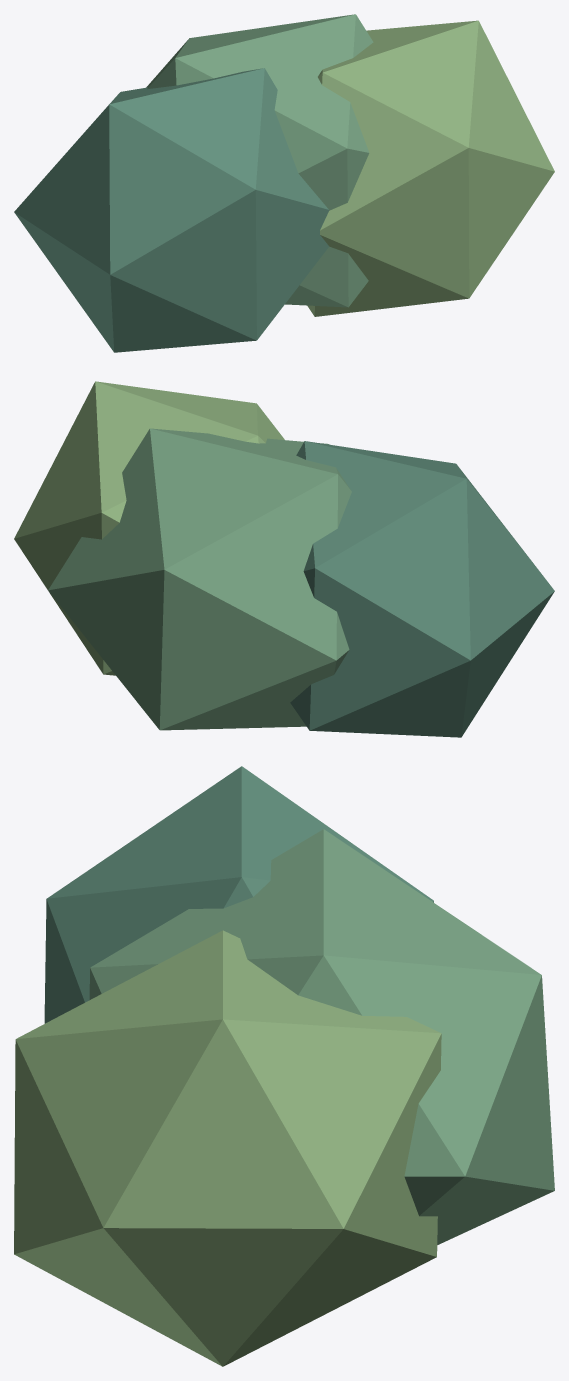
File: bush_a.glb
3 renders of one model, top to bottom at view 1: azimuth 30°, elevation 25°; view 2: azimuth 150°, elevation 25°; view 3: azimuth 270°, elevation 25°, orthographic. The views are drawn at different scales.
Visible parts, largest first — view 1: leaves_0, leaves_1, leaves_2; view 2: leaves_2, leaves_0, leaves_1; view 3: leaves_1, leaves_2, leaves_0.
Part boxes in pixels (box(x1,y1,x2,y2)): leaves_0: box(14, 68, 329, 352); leaves_1: box(307, 20, 554, 316); leaves_2: box(146, 14, 373, 307); leaves_2: box(48, 428, 351, 730); leaves_0: box(290, 441, 554, 737); leaves_1: box(14, 381, 284, 675); leaves_1: box(14, 930, 441, 1366); leaves_2: box(89, 829, 554, 1244); leaves_0: box(44, 766, 433, 1023).
Size of the model in its own units: 1.18 by 0.6477 by 0.8585.
